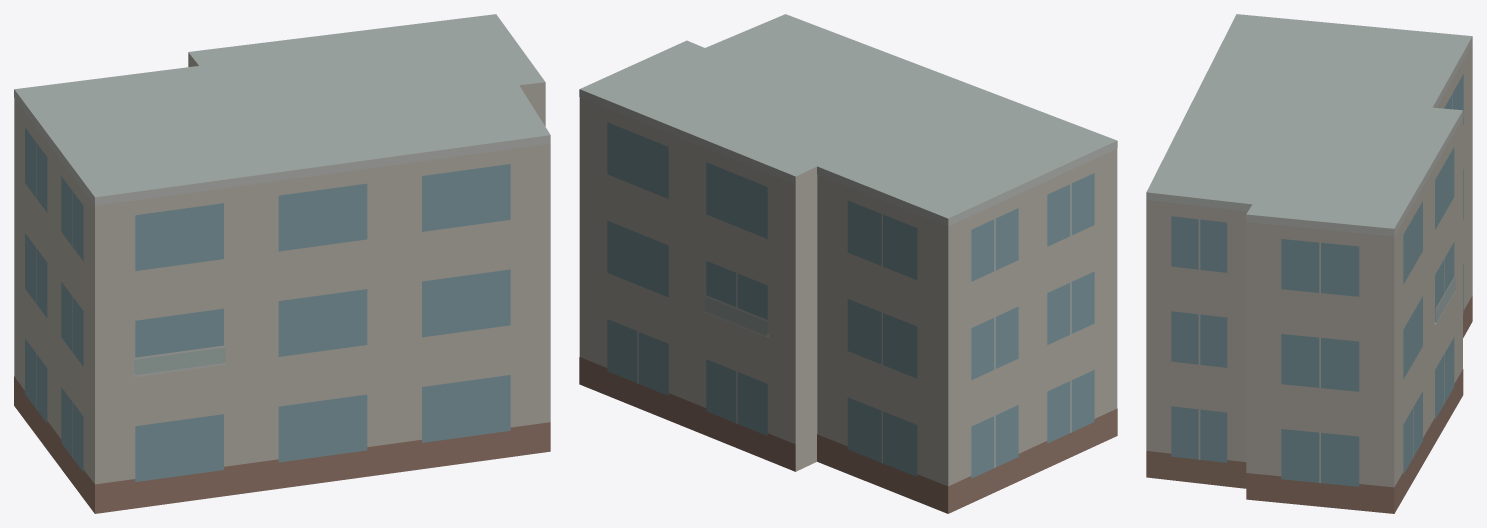
The model's file is survey-upis-33013318.glb.
3 renders of one model, left to right at view 1: azimuth 30°, elevation 25°; view 2: azimuth 150°, elevation 25°; view 3: azimuth 270°, elevation 25°, orthographic. The views are drawn at different scales.
Parts seen in each view (by area): view 1: survey-upis-33013318.tmp; view 2: survey-upis-33013318.tmp; view 3: survey-upis-33013318.tmp.
Boxes of the visible parts, x1=… form: survey-upis-33013318.tmp: x1=14, y1=14, x2=550, y2=513; survey-upis-33013318.tmp: x1=579, y1=14, x2=1117, y2=513; survey-upis-33013318.tmp: x1=1146, y1=14, x2=1472, y2=513.
Bounding box in the file's own units: 14.72 × 9.1 × 9.45.
